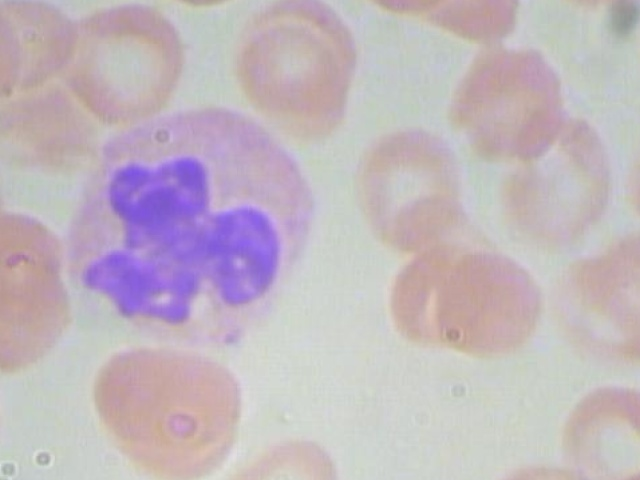WBC: (49, 102, 318, 356)
